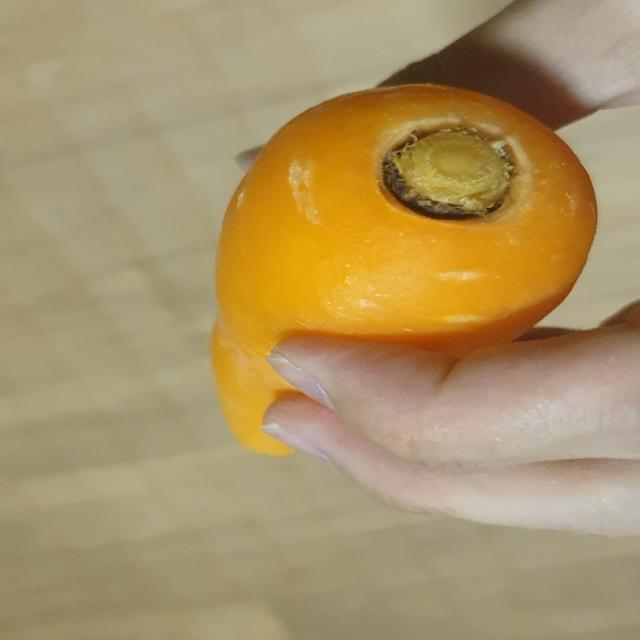Carrot: (202, 72, 603, 465)
